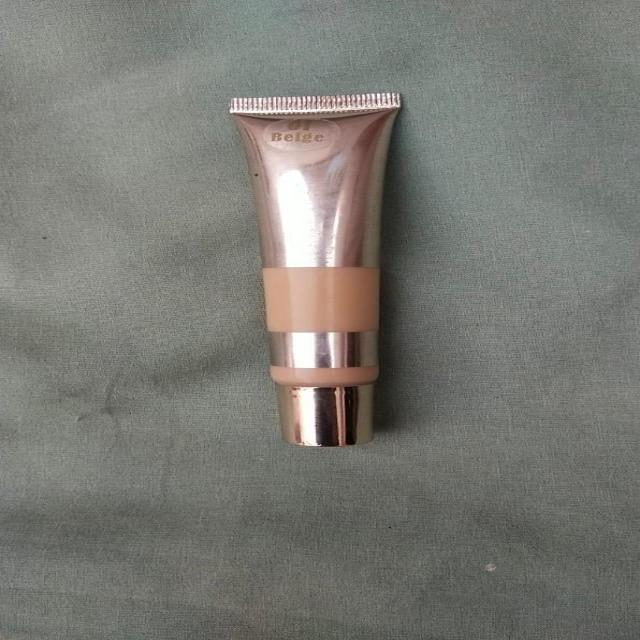concealer: (209, 79, 420, 469)
